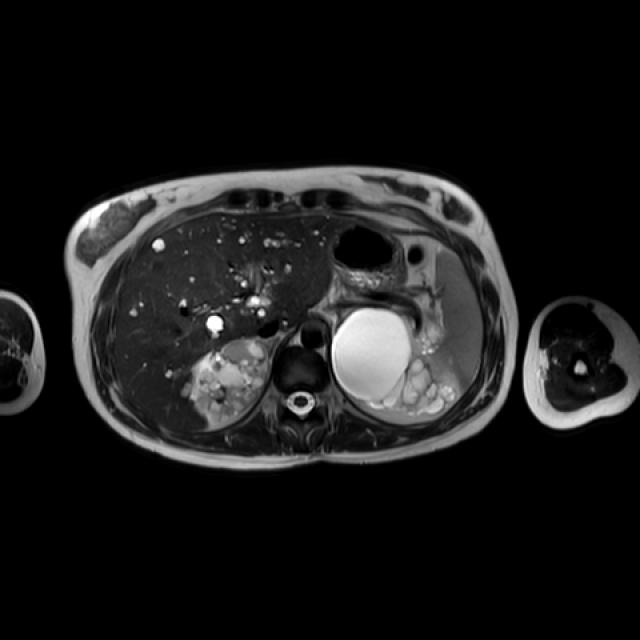sag: (190, 339, 269, 423)
sol: (332, 307, 458, 417)
